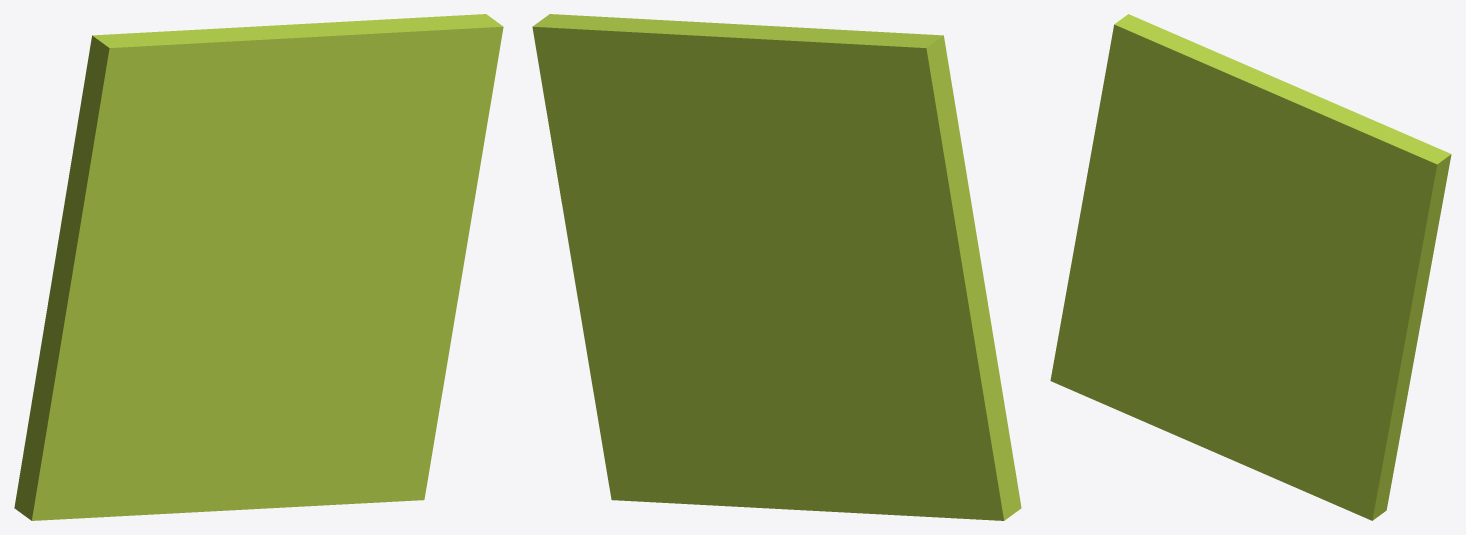
3 views of the same model, side by side, from view 1: azimuth 30°, elevation 25°; view 2: azimuth 150°, elevation 25°; view 3: azimuth 330°, elevation 25° (orthographic). The views are drawn at different scales.
Visible parts, largest first — view 1: osm-way27917482-F-1; view 2: osm-way27917482-F-1; view 3: osm-way27917482-F-1.
Part boxes in pixels (<box>): osm-way27917482-F-1: <box>14,14,503,520</box>; osm-way27917482-F-1: <box>532,14,1021,520</box>; osm-way27917482-F-1: <box>1050,14,1451,520</box>.
Bounding box in the file's own units: 2.35 × 2.51 × 0.15.
